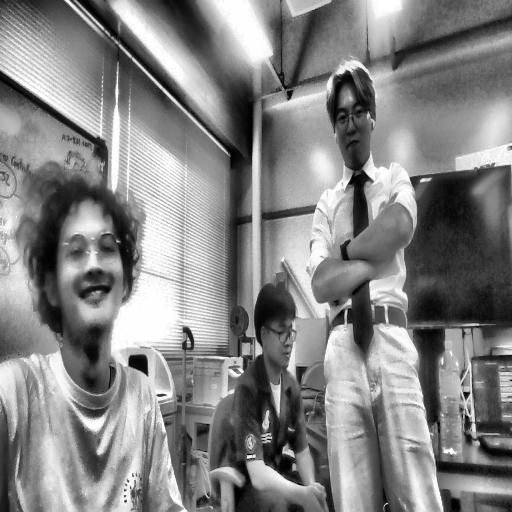Daifuku: (20, 172, 140, 341)
Not Daifuku: (328, 63, 378, 167), (254, 283, 298, 371)
